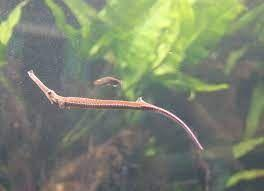Long-Snouted Pipefish: (26, 64, 206, 157)
